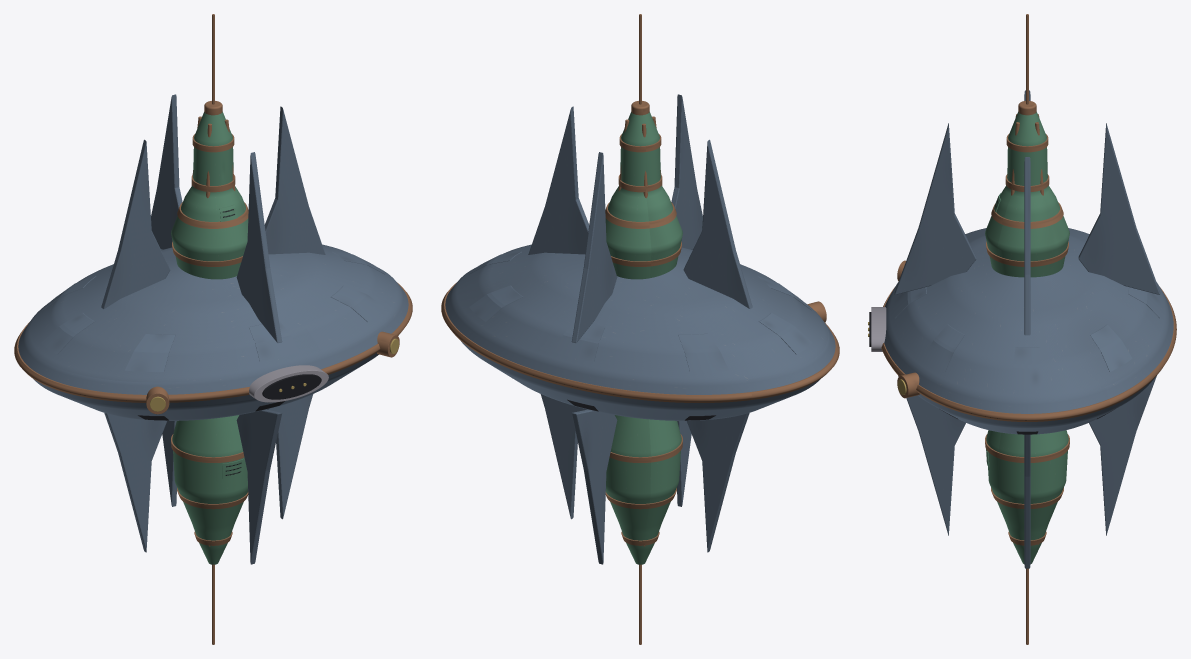
3 renders of one model, left to right at view 1: azimuth 30°, elevation 25°; view 2: azimuth 150°, elevation 25°; view 3: azimuth 270°, elevation 25°, orthographic.
Visible parts, largest first — view 1: Observatory saucer pressure hull, Observatory axial green chambers, Observatory pointed fin 1 2, Observatory pointed fin 1 0, Observatory pointed fin 1 3, Observatory pointed fin -1 2, Observatory pointed fin -1 3, Observatory equatorial copper rim, Observatory pointed fin 1 1, Observatory pointed fin -1 0, Observatory upper service plate 5, Observatory central oval bezel (+6 smaller); view 2: Observatory saucer pressure hull, Observatory axial green chambers, Observatory pointed fin 1 2, Observatory pointed fin 1 0, Observatory equatorial copper rim, Observatory pointed fin 1 1, Observatory pointed fin -1 2, Observatory pointed fin -1 1, Observatory pointed fin 1 3, Observatory pointed fin -1 0, Observatory upper service plate 3, Observatory upper service plate 2 (+4 smaller); view 3: Observatory saucer pressure hull, Observatory axial green chambers, Observatory pointed fin 1 1, Observatory pointed fin 1 3, Observatory pointed fin -1 1, Observatory pointed fin -1 3, Observatory equatorial copper rim, Observatory pointed fin 1 0, Observatory upper service plate 0, Observatory upper service plate 1, Observatory upper service plate 7, Observatory pointed fin -1 0 (+6 smaller).
Boxes of the visible parts, box(x1,y1,x2,y2) form: Observatory saucer pressure hull: box(18, 244, 408, 420); Observatory axial green chambers: box(171, 112, 248, 564); Observatory pointed fin 1 2: box(101, 139, 170, 309); Observatory pointed fin 1 0: box(264, 106, 325, 254); Observatory pointed fin 1 3: box(236, 152, 282, 342); Observatory pointed fin -1 2: box(104, 413, 166, 552); Observatory pointed fin -1 3: box(236, 409, 282, 564); Observatory equatorial copper rim: box(14, 282, 412, 402); Observatory pointed fin 1 1: box(151, 94, 182, 249); Observatory pointed fin -1 0: box(266, 394, 313, 519); Observatory upper service plate 5: box(125, 333, 175, 371); Observatory central oval bezel: box(249, 365, 328, 402); Observatory saucer pressure hull: box(445, 244, 835, 420); Observatory axial green chambers: box(605, 112, 682, 564); Observatory pointed fin 1 2: box(683, 139, 752, 309); Observatory pointed fin 1 0: box(528, 106, 589, 254); Observatory equatorial copper rim: box(441, 282, 839, 402); Observatory pointed fin 1 1: box(571, 152, 617, 342); Observatory pointed fin -1 2: box(687, 413, 749, 552); Observatory pointed fin -1 1: box(571, 409, 617, 564); Observatory pointed fin 1 3: box(671, 94, 702, 249); Observatory pointed fin -1 0: box(540, 394, 587, 519); Observatory upper service plate 3: box(678, 333, 728, 371); Observatory upper service plate 2: box(554, 320, 604, 361); Observatory saucer pressure hull: box(884, 228, 1173, 434); Observatory axial green chambers: box(985, 111, 1069, 563); Observatory pointed fin 1 1: box(1078, 123, 1160, 294); Observatory pointed fin 1 3: box(894, 123, 976, 294); Observatory pointed fin -1 1: box(1089, 375, 1156, 535); Observatory pointed fin -1 3: box(898, 375, 965, 535); Observatory equatorial copper rim: box(881, 287, 1176, 421); Observatory pointed fin 1 0: box(1024, 157, 1030, 335); Observatory upper service plate 0: box(1011, 347, 1043, 389); Observatory upper service plate 1: box(1090, 324, 1132, 371); Observatory upper service plate 7: box(922, 324, 964, 371); Observatory pointed fin -1 0: box(1024, 434, 1030, 568).
Size of the model in its own units: 3.52 by 5.74 by 2.55.
6 materials, 3 textured.
